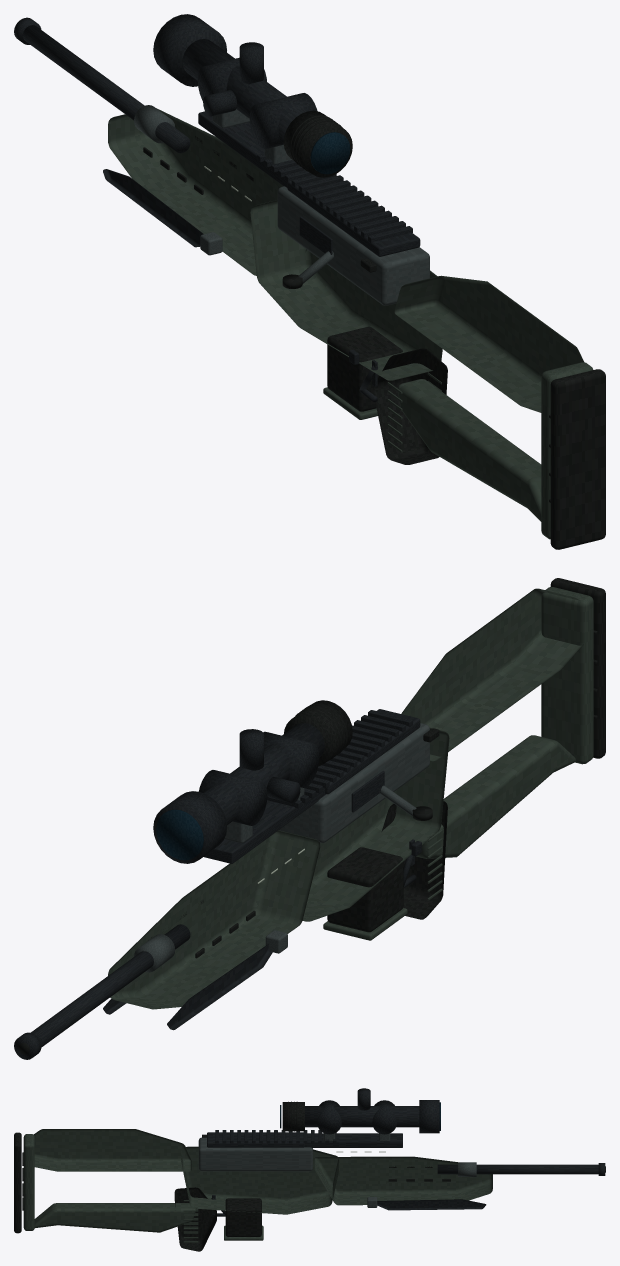
The model's file is scout-view.glb.
3 views of the same model, one above another, from view 1: azimuth 30°, elevation 25°; view 2: azimuth 150°, elevation 25°; view 3: azimuth 270°, elevation 25° (orthographic). The views are drawn at different scales.
Parts seen in each view (by area): view 1: cheek-comb, forend, central-stock, rubber-butt-pad, lower-stock-strut, receiver, pistol-grip, magazine, free-floating-barrel, scope-tube, front-objective, butt-frame (+10 smaller); view 2: forend, cheek-comb, central-stock, butt-frame, lower-stock-strut, receiver, magazine, free-floating-barrel, scope-tube, rubber-butt-pad, pistol-grip, front-objective (+12 smaller); view 3: forend, cheek-comb, central-stock, lower-stock-strut, receiver, scope-tube, free-floating-barrel, magazine, pistol-grip, scope-rail, receiver-top-rail, butt-frame (+8 smaller).
Part boxes in pixels (left/top/right/bottom): cheek-comb: left=394, top=275, right=583, bottom=412; forend: left=108, top=108, right=306, bottom=275; central-stock: left=250, top=200, right=442, bottom=380; rubber-butt-pad: left=550, top=369, right=605, bottom=549; lower-stock-strut: left=398, top=379, right=541, bottom=521; receiver: left=277, top=186, right=429, bottom=305; pistol-grip: left=373, top=348, right=447, bottom=464; magazine: left=327, top=326, right=402, bottom=411; free-floating-barrel: left=23, top=25, right=190, bottom=153; scope-tube: left=182, top=39, right=306, bottom=143; front-objective: left=153, top=14, right=226, bottom=86; butt-frame: left=541, top=362, right=593, bottom=539; forend: left=108, top=830, right=320, bottom=1009; cheek-comb: left=401, top=588, right=583, bottom=761; central-stock: left=302, top=727, right=449, bottom=921; butt-frame: left=541, top=587, right=593, bottom=764; lower-stock-strut: left=416, top=735, right=576, bottom=858; receiver: left=279, top=723, right=429, bottom=842; magazine: left=327, top=847, right=403, bottom=932; free-floating-barrel: left=31, top=924, right=190, bottom=1047; scope-tube: left=203, top=723, right=324, bottom=824; rubber-butt-pad: left=550, top=578, right=605, bottom=758; pistol-grip: left=381, top=801, right=447, bottom=919; front-objective: left=153, top=791, right=226, bottom=863; forend: left=314, top=1156, right=492, bottom=1205; cheek-comb: left=33, top=1129, right=191, bottom=1171; central-stock: left=181, top=1146, right=338, bottom=1214; lower-stock-strut: left=34, top=1203, right=195, bottom=1232; receiver: left=198, top=1137, right=312, bottom=1171; scope-tube: left=305, top=1106, right=419, bottom=1127; free-floating-barrel: left=437, top=1164, right=598, bottom=1174; magazine: left=225, top=1198, right=261, bottom=1236; pistol-grip: left=174, top=1187, right=216, bottom=1251; scope-rail: left=305, top=1133, right=402, bottom=1147; receiver-top-rail: left=207, top=1132, right=304, bottom=1147; butt-frame: left=23, top=1134, right=34, bottom=1230.
Bounding box in the file's own units: 0.1705 × 0.423 × 1.45.
6 materials, 6 textured.
